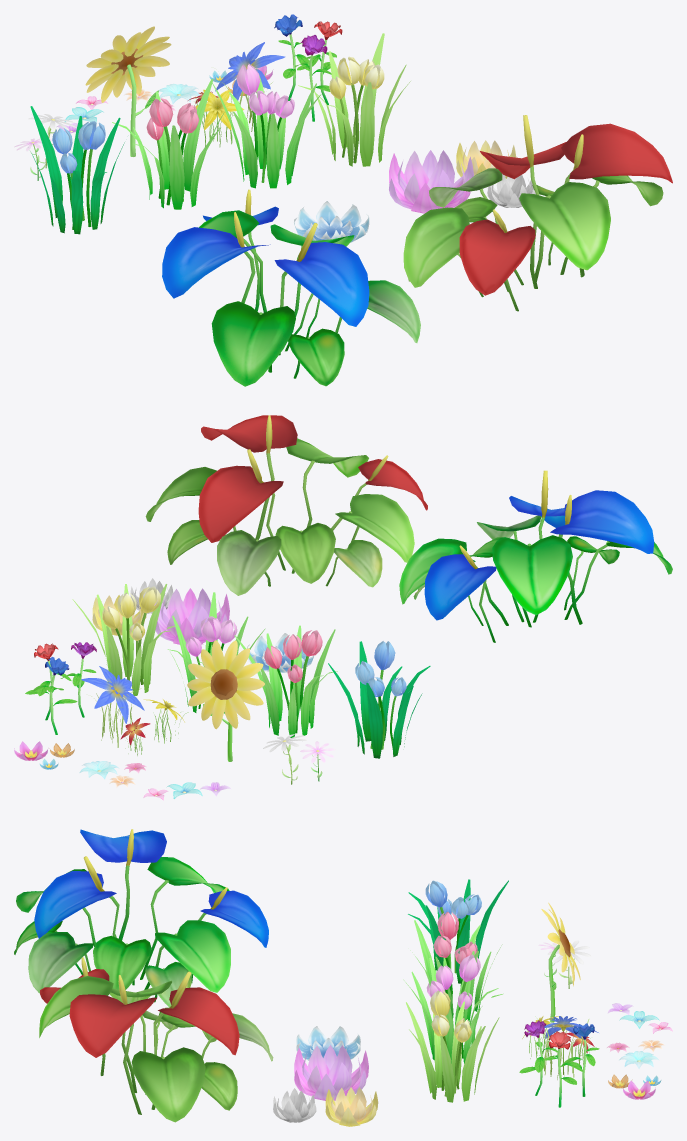
File: flowers_pack_2.glb
3 views of the same model, one above another, from view 1: azimuth 30°, elevation 25°; view 2: azimuth 150°, elevation 25°; view 3: azimuth 270°, elevation 25° (orthographic). The views are drawn at different scales.
Visible parts, largest first — view 1: flower7, flower7-B, flower4-B, flower4-D, flower4-C, flower4, flower8, flower5, flower10, flower9, flower5-C, flower5-B (+4 smaller); view 2: flower7, flower7-B, flower8, flower4-C, flower4-D, flower4, flower5, flower4-B, flower9, flower10, flower5-B, flower6-B (+2 smaller); view 3: flower7-B, flower7, flower4, flower5, flower4-B, flower4-D, flower4-C, flower5-B, flower8, flower10, flower5-C, flower9 (+3 smaller).
Boxes of the visible parts, x1=… form: flower7: x1=403, y1=115, x2=672, y2=311; flower7-B: x1=162, y1=189, x2=420, y2=386; flower4-B: x1=212, y1=63, x2=321, y2=188; flower4-D: x1=30, y1=106, x2=124, y2=234; flower4-C: x1=112, y1=79, x2=224, y2=209; flower4: x1=298, y1=33, x2=410, y2=166; flower8: x1=85, y1=26, x2=171, y2=156; flower5: x1=389, y1=150, x2=473, y2=213; flower10: x1=294, y1=201, x2=369, y2=242; flower9: x1=215, y1=42, x2=285, y2=131; flower5-C: x1=487, y1=174, x2=535, y2=207; flower5-B: x1=456, y1=140, x2=516, y2=183; flower7: x1=145, y1=415, x2=427, y2=595; flower7-B: x1=399, y1=470, x2=672, y2=642; flower8: x1=187, y1=640, x2=264, y2=761; flower4-C: x1=234, y1=625, x2=337, y2=737; flower4-D: x1=328, y1=641, x2=430, y2=758; flower4: x1=72, y1=584, x2=174, y2=695; flower5: x1=154, y1=588, x2=229, y2=644; flower4-B: x1=167, y1=592, x2=265, y2=713; flower9: x1=81, y1=666, x2=144, y2=747; flower10: x1=247, y1=633, x2=314, y2=672; flower5-B: x1=92, y1=595, x2=146, y2=635; flower6-B: x1=31, y1=657, x2=77, y2=734; flower7-B: x1=14, y1=829, x2=268, y2=1007; flower7: x1=39, y1=957, x2=273, y2=1122; flower4: x1=406, y1=990, x2=499, y2=1102; flower5: x1=294, y1=1045, x2=368, y2=1100; flower4-B: x1=403, y1=951, x2=503, y2=1063; flower4-D: x1=408, y1=879, x2=508, y2=983; flower4-C: x1=410, y1=911, x2=502, y2=1021; flower5-B: x1=325, y1=1087, x2=378, y2=1126; flower8: x1=541, y1=902, x2=580, y2=1022; flower10: x1=296, y1=1026, x2=360, y2=1060; flower5-C: x1=273, y1=1088, x2=316, y2=1122; flower9: x1=529, y1=1016, x2=598, y2=1079.
Size of the model in its own units: 7.28 by 2.08 by 9.1.
Materials: 28 (28 with a texture image).
